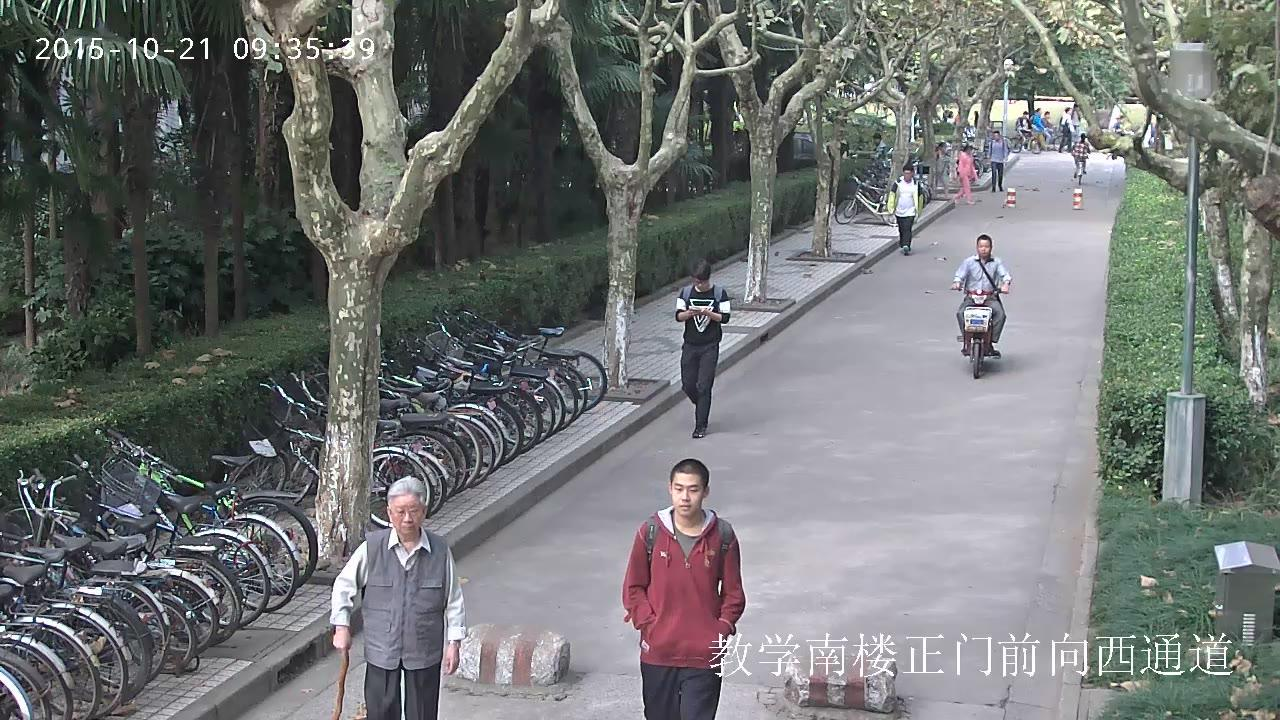person: (327, 477, 466, 720), (620, 458, 744, 720), (674, 260, 731, 439), (950, 233, 1011, 378), (951, 233, 1011, 356), (888, 163, 924, 254), (952, 144, 975, 205), (1011, 110, 1039, 153), (988, 130, 1006, 192), (1072, 133, 1088, 185), (1072, 133, 1088, 178), (1058, 107, 1071, 154), (1015, 111, 1032, 146), (1040, 111, 1051, 144)
